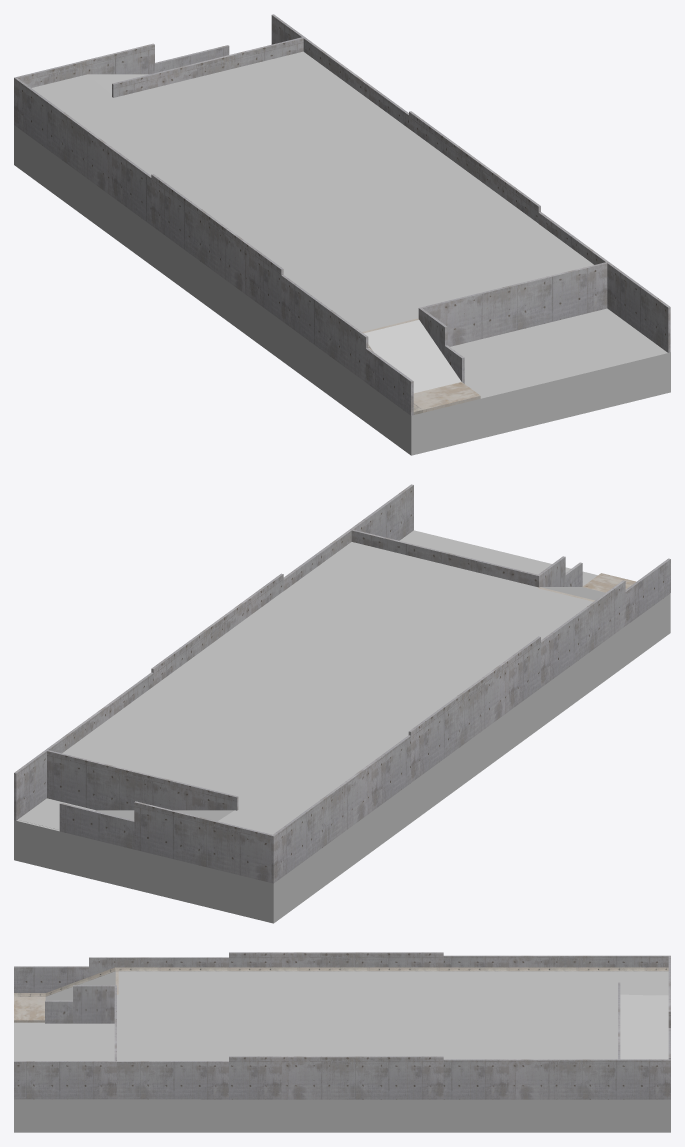
3 views of the same model, one above another, from view 1: azimuth 30°, elevation 25°; view 2: azimuth 150°, elevation 25°; view 3: azimuth 270°, elevation 25° (orthographic). The views are drawn at different scales.
Visible parts, largest first — view 1: BB_020_f1; view 2: BB_020_f1; view 3: BB_020_f1.
Boxes of the visible parts, left/top/right/bottom form: BB_020_f1: left=14, top=14, right=670, bottom=455; BB_020_f1: left=14, top=484, right=670, bottom=923; BB_020_f1: left=14, top=952, right=670, bottom=1132.
Size of the model in its own units: 13.6 by 4.55 by 36.
